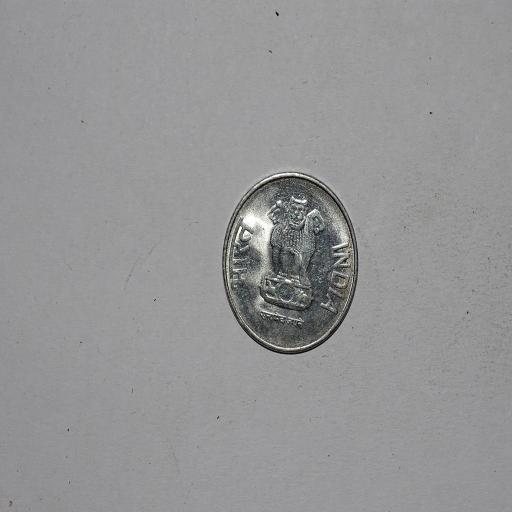rupee2: (220, 171, 358, 354)
